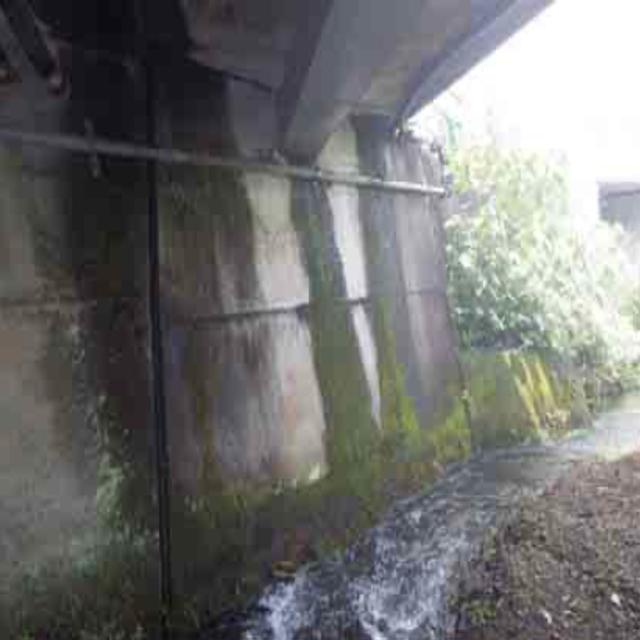leakage: (76, 29, 290, 618), (351, 108, 476, 483)
